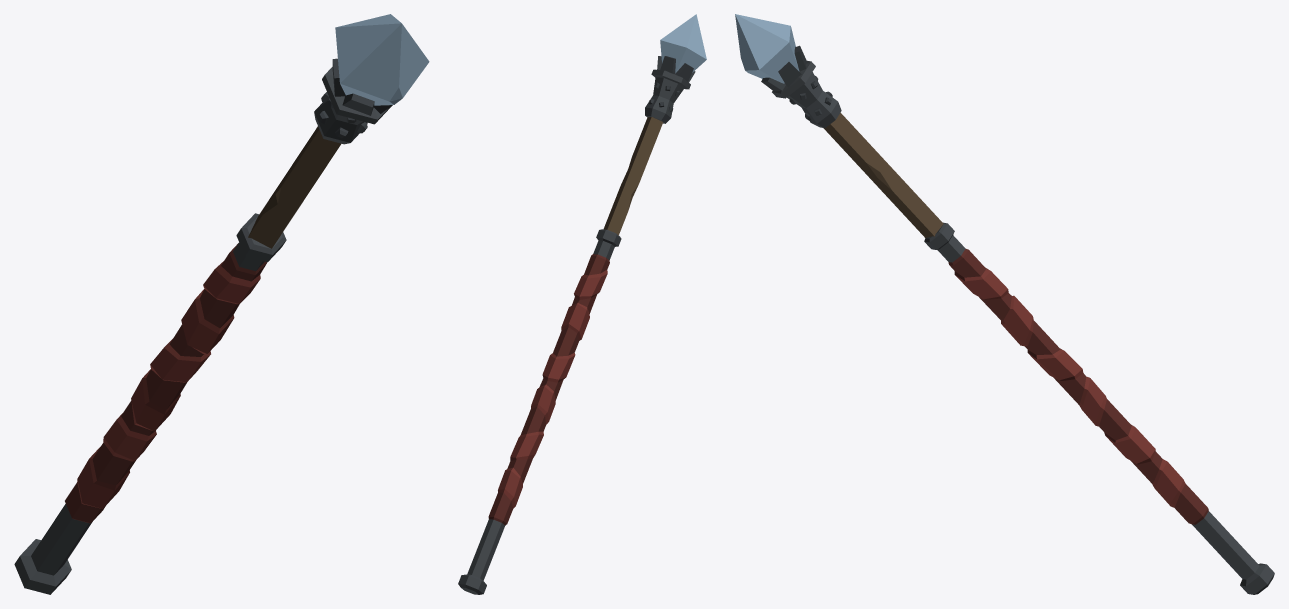
Rendered from fk-staff-04.glb.
3 views of the same model, side by side, from view 1: azimuth 30°, elevation 25°; view 2: azimuth 150°, elevation 25°; view 3: azimuth 270°, elevation 25° (orthographic). The views are drawn at different scales.
Visible parts, largest first — view 1: fk-staff-04; view 2: fk-staff-04; view 3: fk-staff-04.
Boxes of the visible parts, left/top/right/bottom form: fk-staff-04: left=14, top=14, right=429, bottom=594; fk-staff-04: left=458, top=14, right=706, bottom=594; fk-staff-04: left=735, top=14, right=1274, bottom=594.
Size of the model in its own units: 0.1414 by 1.12 by 0.9685.
1 material, 1 textured.
